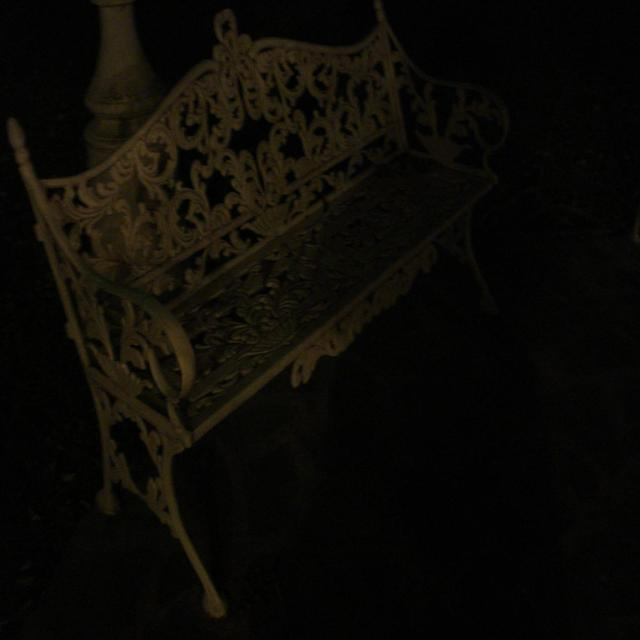chair: (18, 14, 537, 609)
